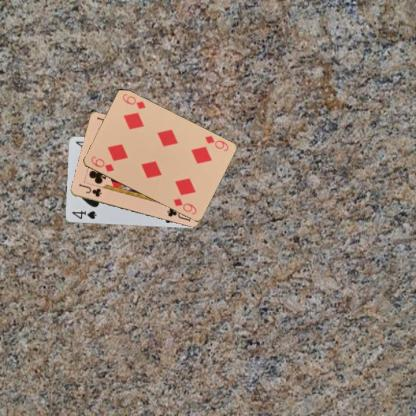4s: (69, 208, 97, 221)
6d: (88, 154, 115, 173), (203, 133, 230, 152)
Jc: (76, 181, 103, 198)
